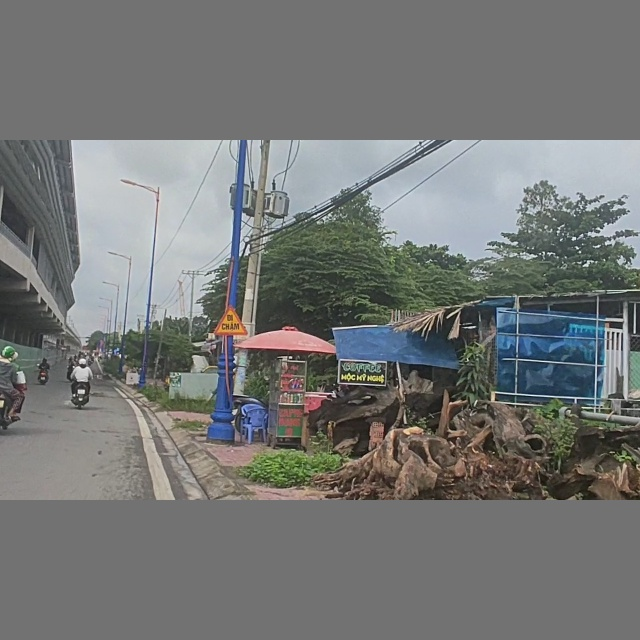W.245a: (211, 305, 250, 337)
